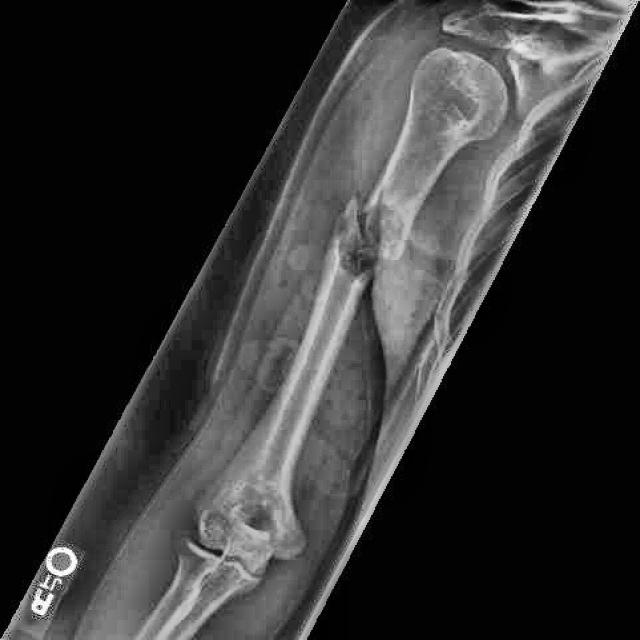humerus: (288, 160, 452, 344)
